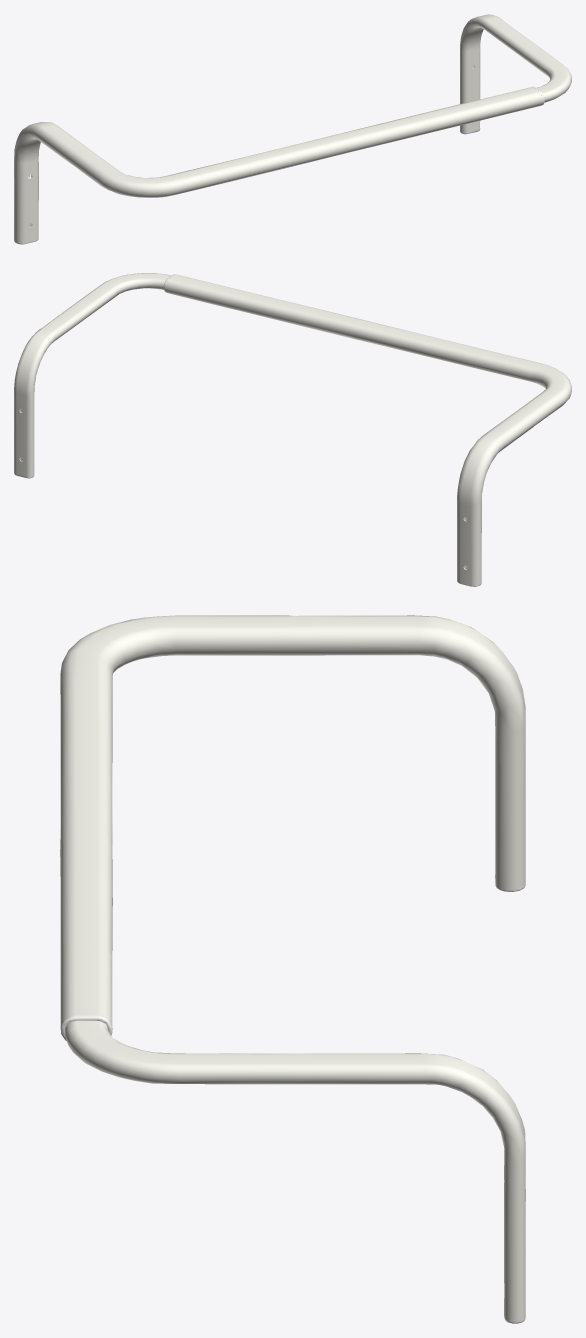
The model's file is Mulig30179435.glb.
3 views of the same model, one above another, from view 1: azimuth 30°, elevation 25°; view 2: azimuth 150°, elevation 25°; view 3: azimuth 270°, elevation 25° (orthographic). The views are drawn at different scales.
Parts seen in each view (by area): view 1: model; view 2: model; view 3: model.
Boxes of the visible parts, x1=… form: model: x1=14, y1=14, x2=571, y2=244; model: x1=14, y1=273, x2=571, y2=586; model: x1=60, y1=615, x2=525, y2=1323.
Size of the model in its own units: 0.6007 by 0.1607 by 0.2605.
1 material, 1 textured.
